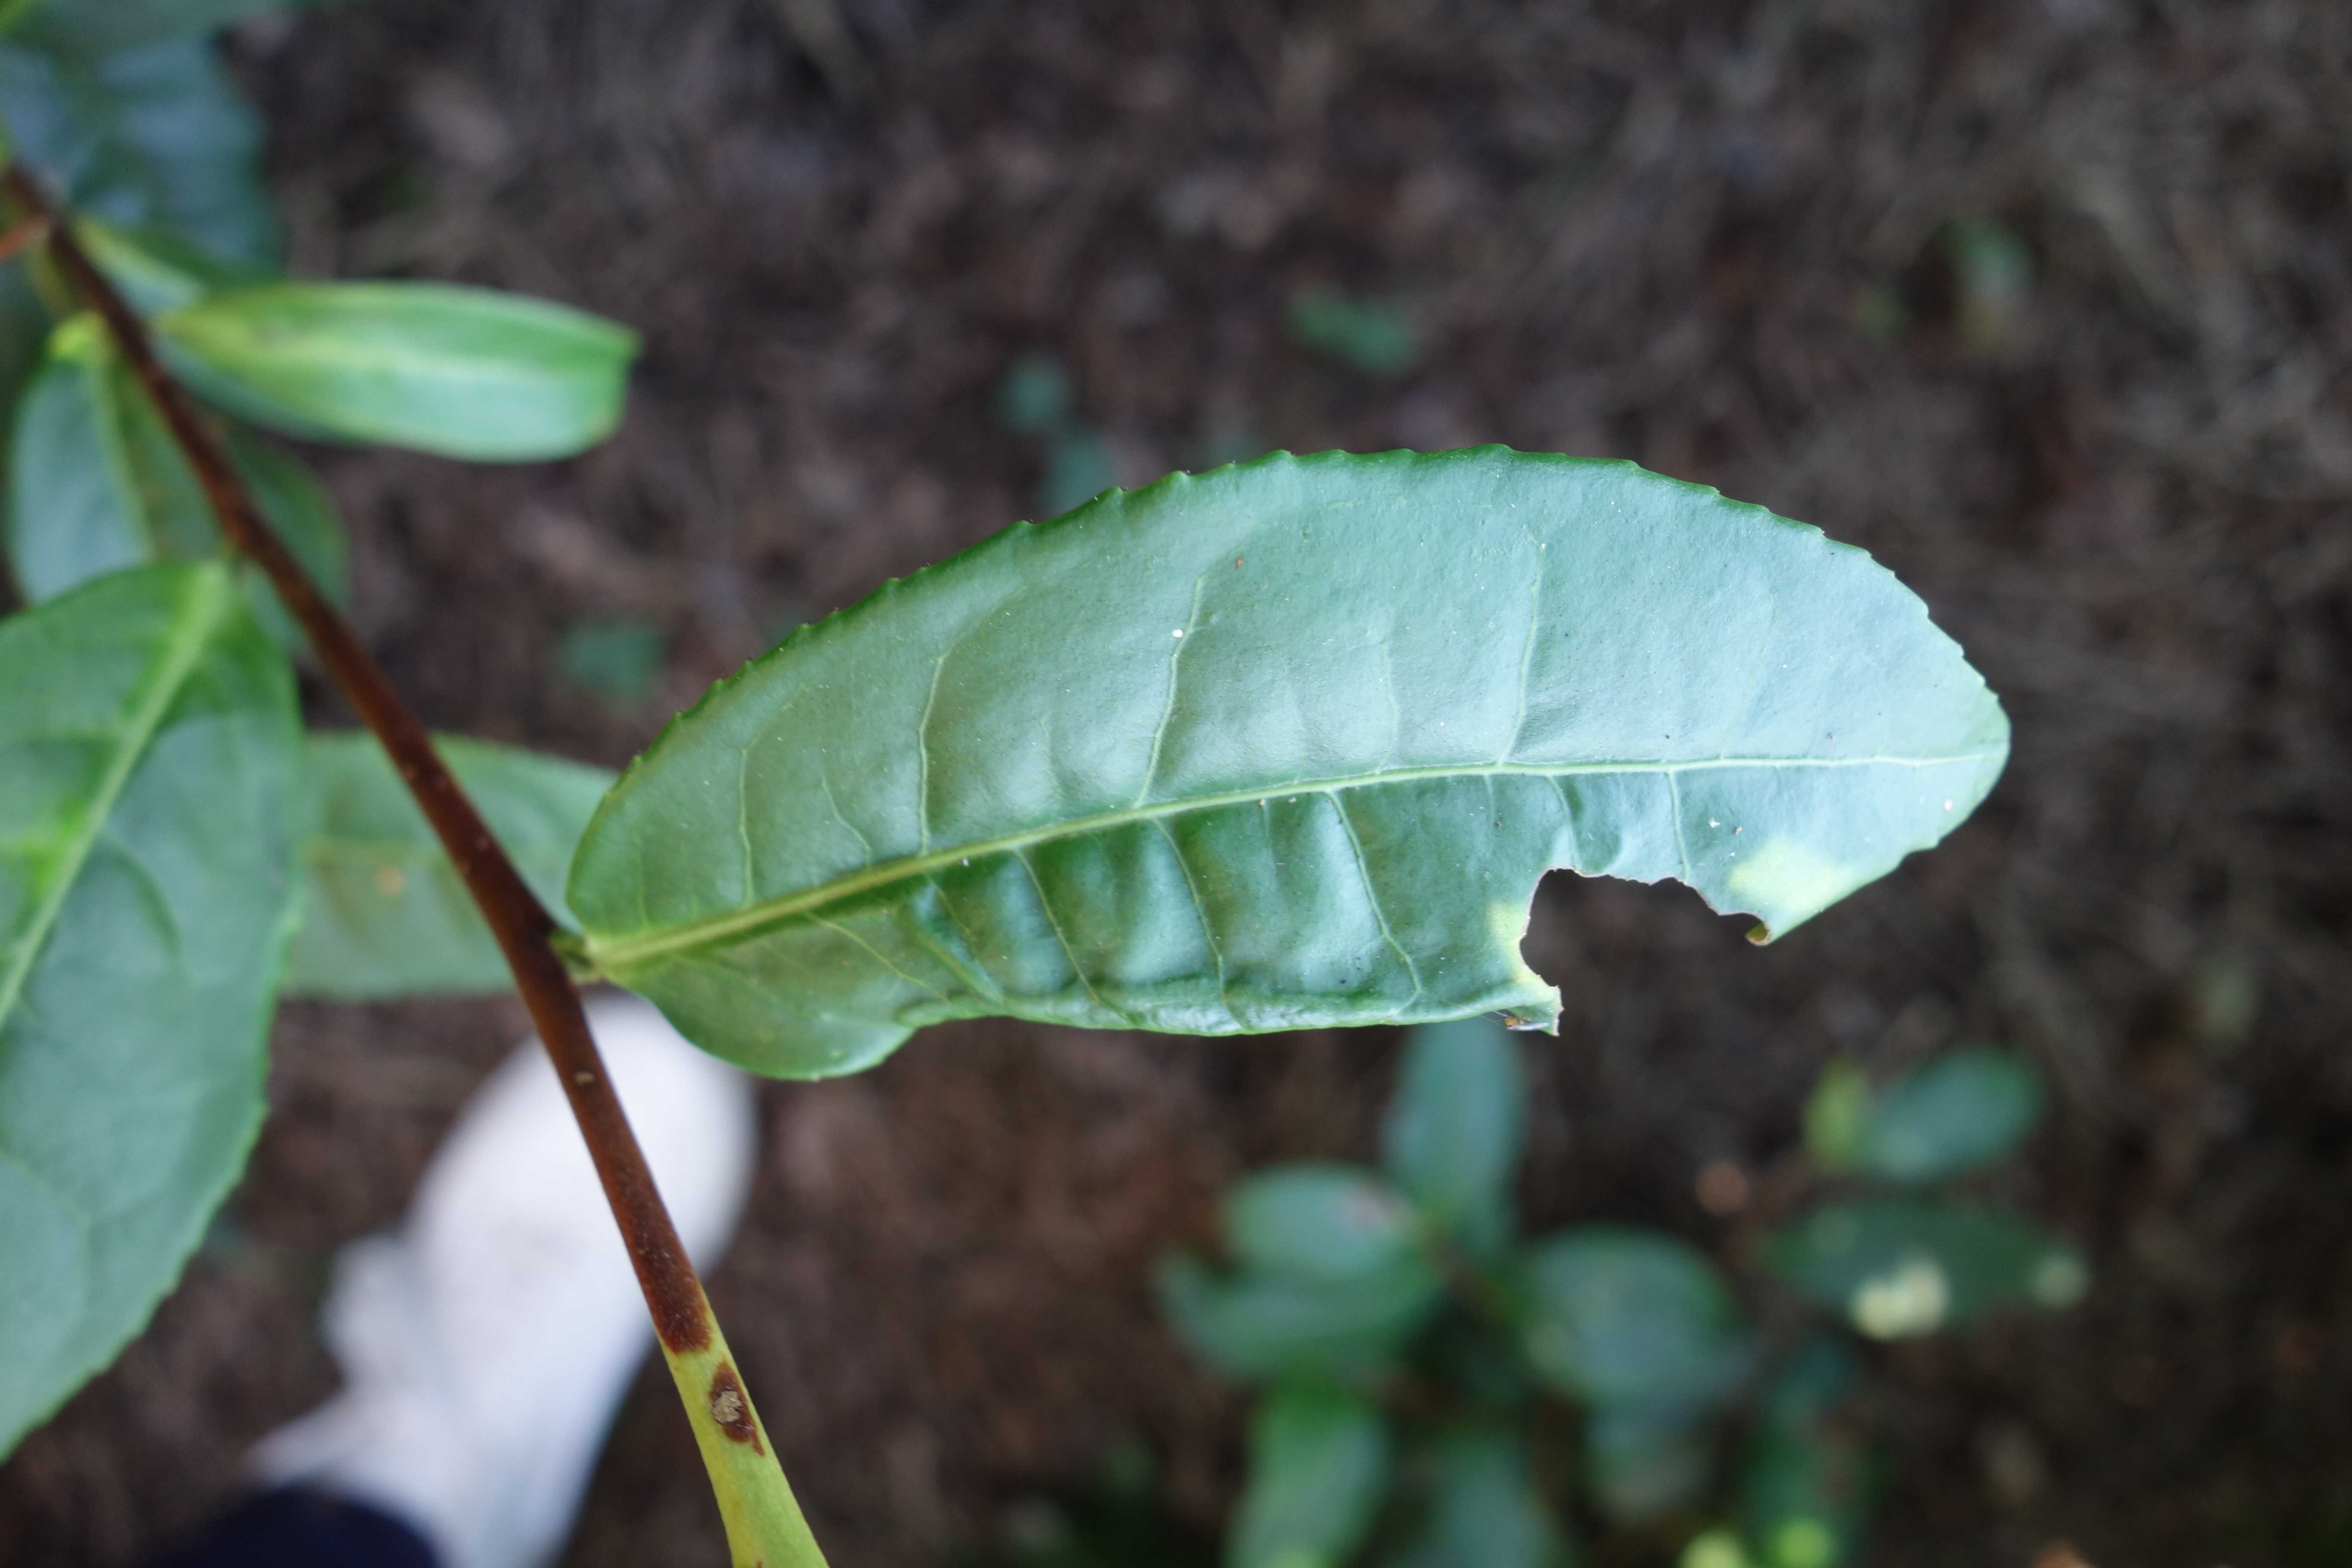chihuo_low: (565, 434, 2016, 1081)
